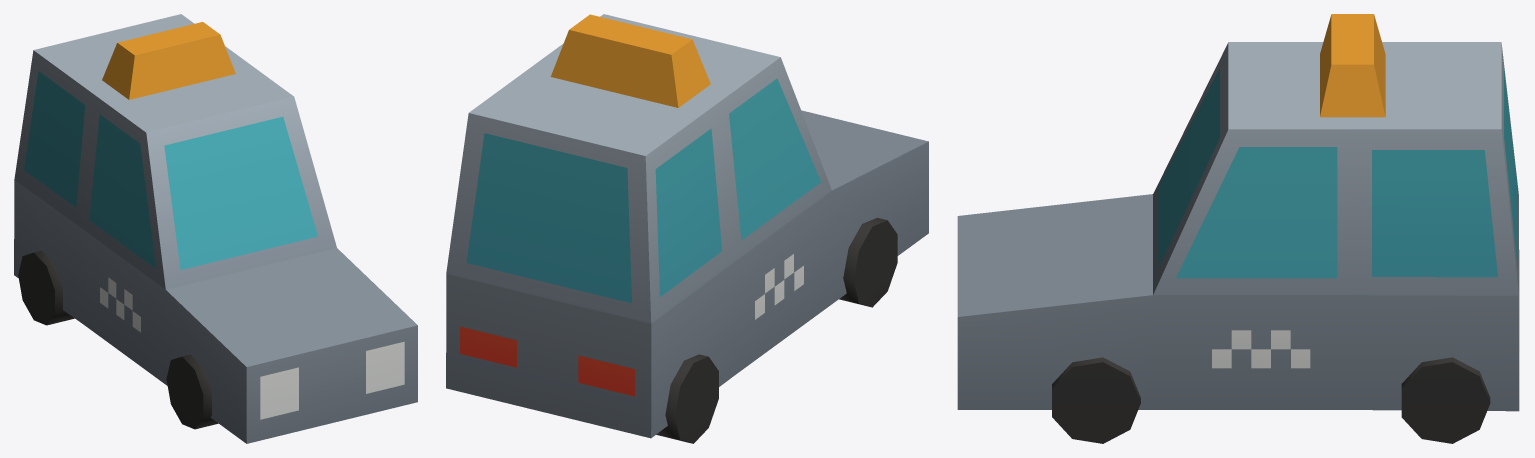
File: Car_2_2.fbx
The picture shows the model from 3 angles, left to right: view 1: azimuth 30°, elevation 25°; view 2: azimuth 150°, elevation 25°; view 3: azimuth 270°, elevation 25°; orthographic projection. The views are drawn at different scales.
Visible parts, largest first — view 1: Car_2_2; view 2: Car_2_2; view 3: Car_2_2.
Part boxes in pixels (x1,y1,x2,y2): Car_2_2: (14, 14, 417, 443); Car_2_2: (446, 14, 928, 443); Car_2_2: (957, 14, 1519, 443).
Size of the model in its own units: 212 by 311 by 455.
